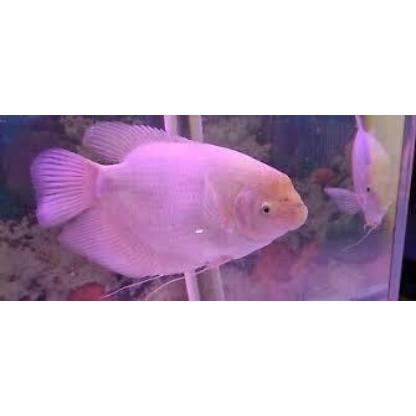gurame: (32, 124, 312, 280)
